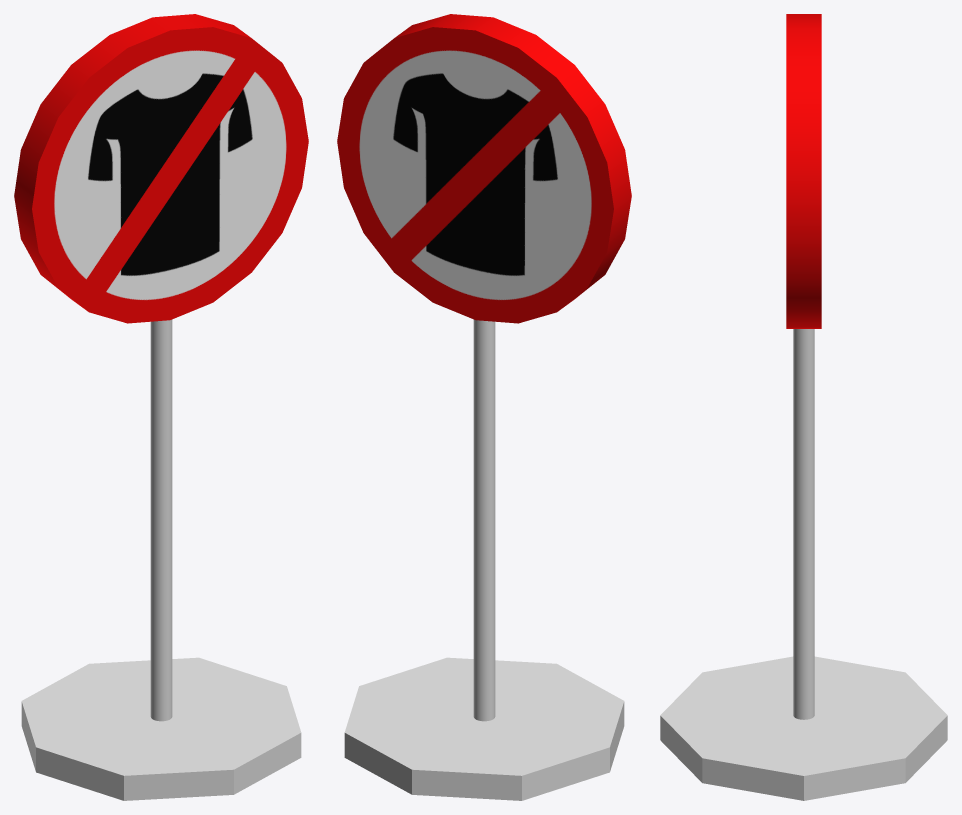
File: tshirt_sign.fbx
3 views of the same model, side by side, from view 1: azimuth 30°, elevation 25°; view 2: azimuth 150°, elevation 25°; view 3: azimuth 270°, elevation 25° (orthographic).
Parts seen in each view (by area): view 1: Sign; view 2: Sign; view 3: Sign.
Part boxes in pixels (box(x1,y1,x2,y2)): Sign: box(14, 14, 308, 800); Sign: box(337, 14, 631, 800); Sign: box(660, 14, 947, 800).
Size of the model in its own units: 40.51 by 100 by 36.69.
